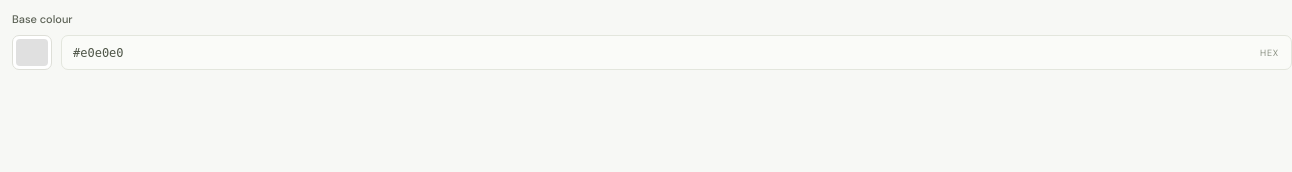
Test case: ColourPicker › cancels invalid drafts and validation with Escape
Replace the text in the field named "Hex colour" with "oops". click: (661, 52)
box: [62,36,1260,69]
Then press Enter
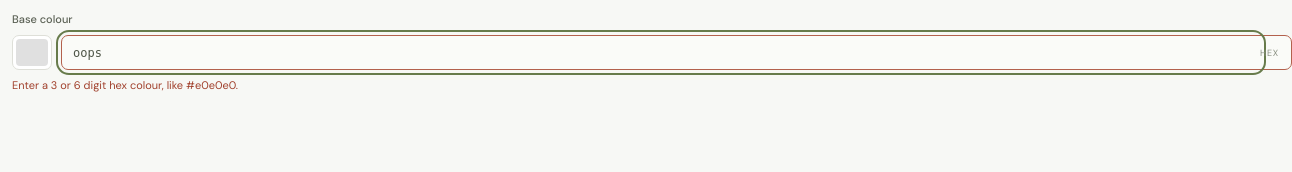
expect the field named "Hex colour" is marked as invalid: met, box [62,36,1260,69]
Press Escape
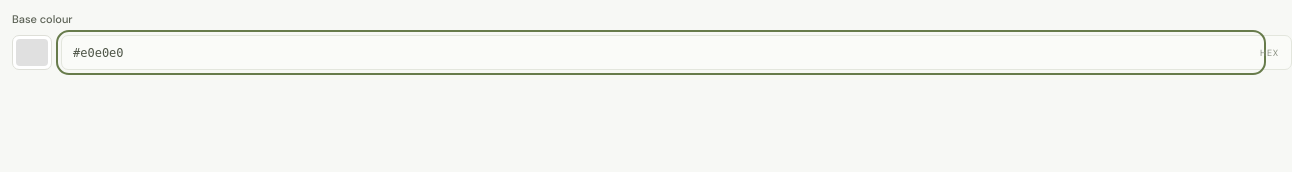
expect the field named "Hex colour" holds "#e0e0e0": met, box [62,36,1260,69]
